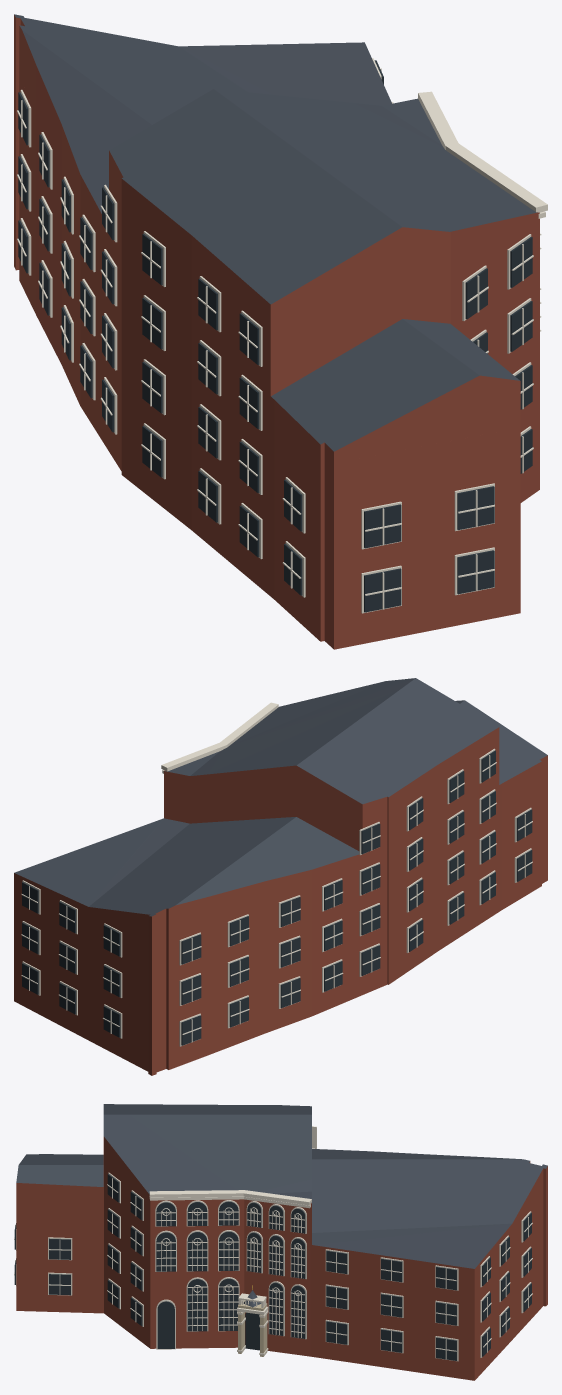
The model's file is begijnhofkapel.glb.
3 views of the same model, one above another, from view 1: azimuth 30°, elevation 25°; view 2: azimuth 150°, elevation 25°; view 3: azimuth 270°, elevation 25° (orthographic). The views are drawn at different scales.
Parts seen in each view (by area): view 1: begijnhofkapel; view 2: begijnhofkapel; view 3: begijnhofkapel.
Part boxes in pixels (box(x1,y1,x2,y2)): begijnhofkapel: box(14, 14, 547, 649); begijnhofkapel: box(14, 678, 547, 1075); begijnhofkapel: box(14, 1104, 547, 1380).
Size of the model in its own units: 21.69 by 15.8 by 41.1.
